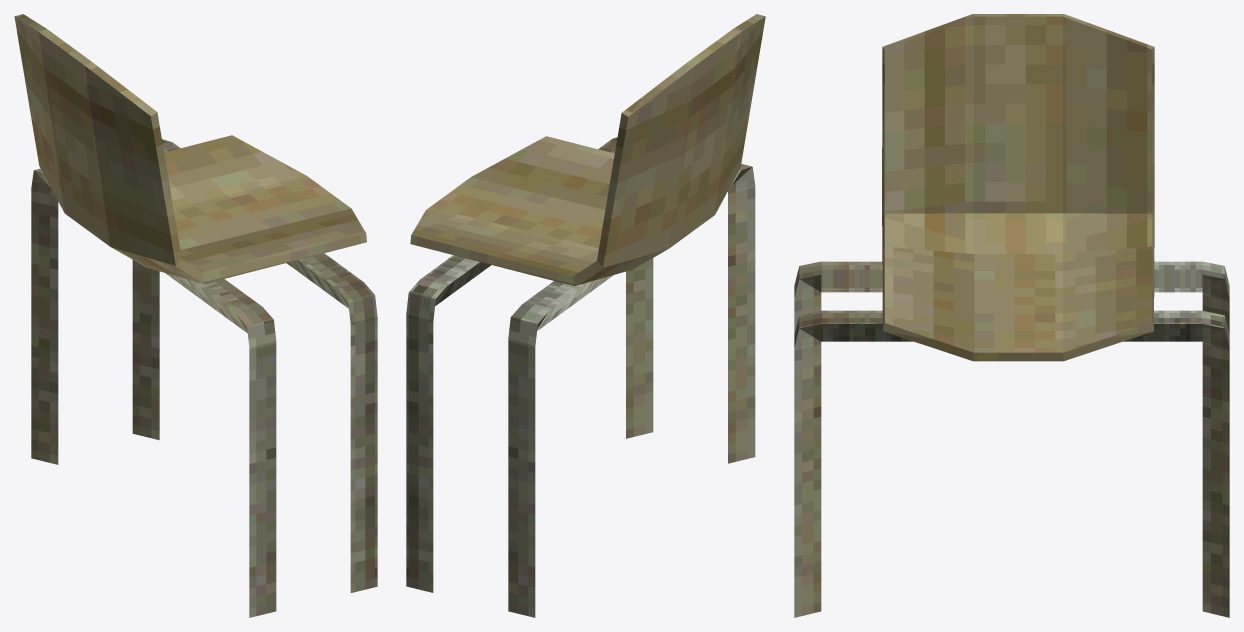
File: busstop_single_seat_alt2.glb
3 views of the same model, side by side, from view 1: azimuth 30°, elevation 25°; view 2: azimuth 150°, elevation 25°; view 3: azimuth 270°, elevation 25° (orthographic).
Parts seen in each view (by area): view 1: busstop_single_seat_alt2; view 2: busstop_single_seat_alt2; view 3: busstop_single_seat_alt2.
Part boxes in pixels (box(x1,y1,x2,y2)): busstop_single_seat_alt2: box(14, 14, 377, 617); busstop_single_seat_alt2: box(406, 14, 765, 617); busstop_single_seat_alt2: box(794, 14, 1229, 617).
Bounding box in the file's own units: 0.692 × 1.25 × 0.9766.
Materials: 1 (1 with a texture image).
